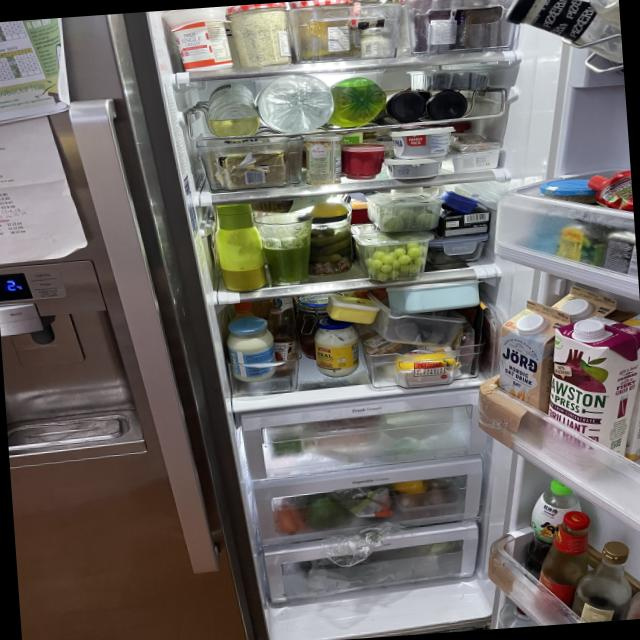Cebolla: (274, 507, 302, 532)
Limón: (310, 200, 348, 218), (389, 478, 428, 494)
Mantequilla: (216, 150, 292, 190)
